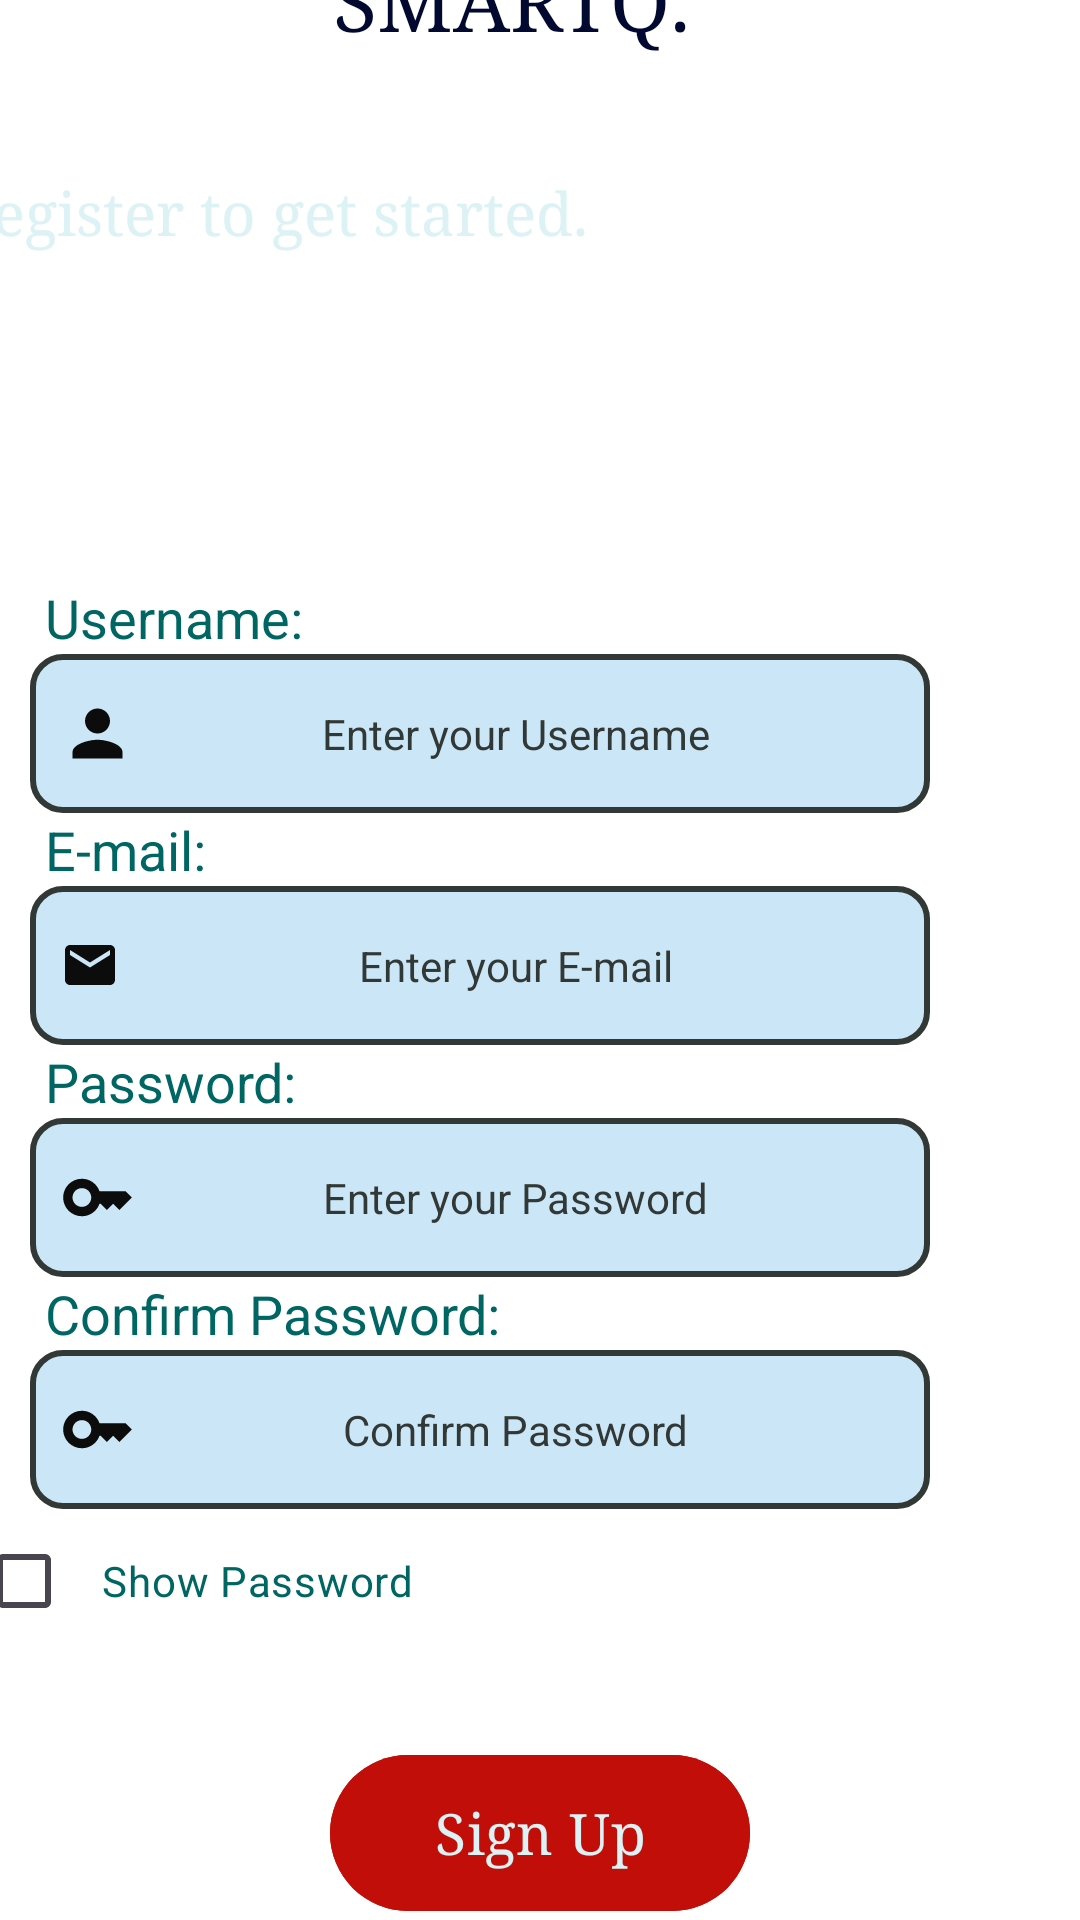

Icons on this 1080 x 1920 Android screen, each with its box as (x1, y1, x2, y2):
key: (63, 1178, 132, 1217), (63, 1410, 132, 1449)
person: (72, 708, 123, 759)
